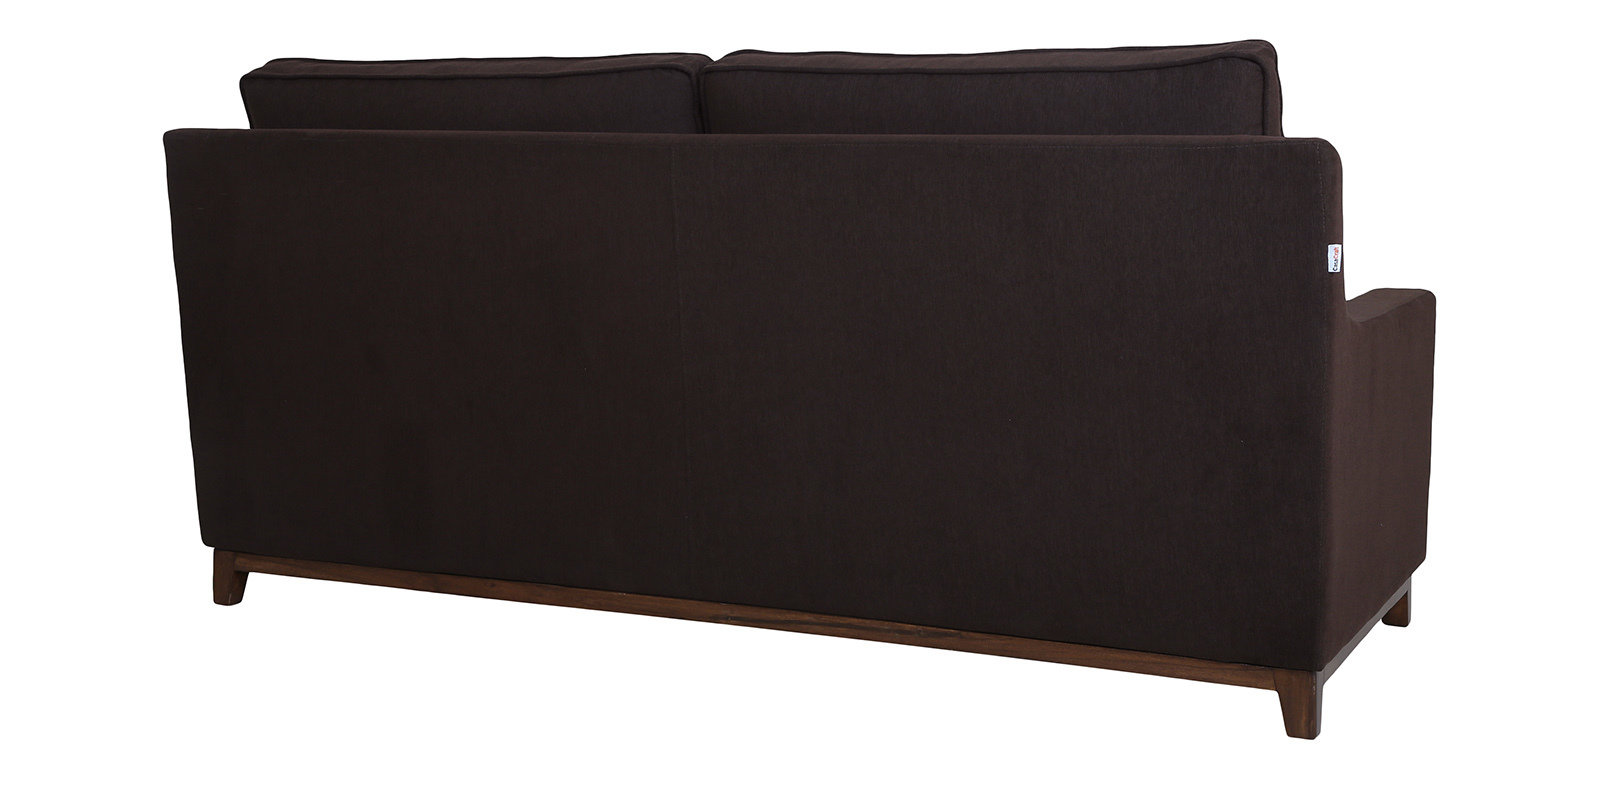Diego Three Seater Sofa in Chestnut Brown Colour by CasaCraft: (123, 36, 1434, 789)
